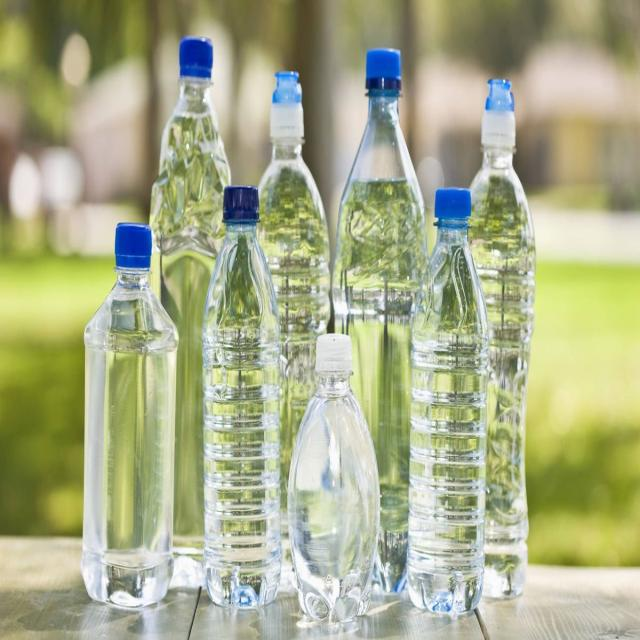Plastico: (331, 47, 430, 604), (81, 223, 178, 604), (404, 194, 490, 612), (201, 183, 282, 605), (284, 335, 388, 623)
